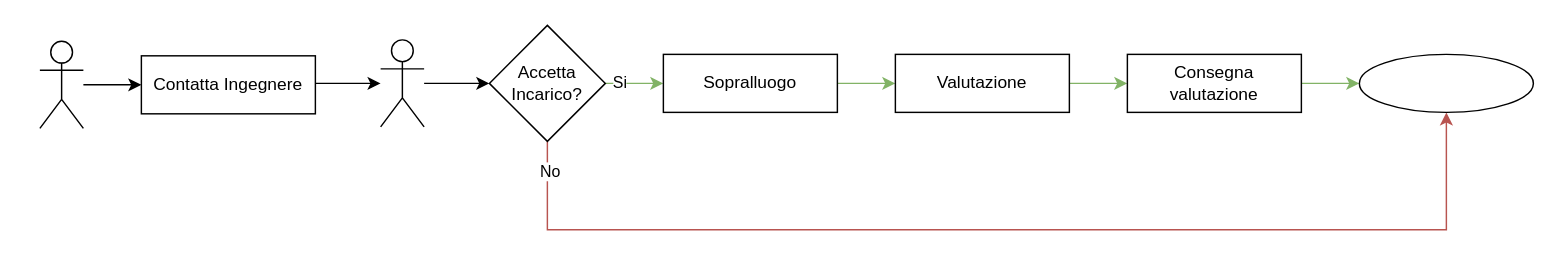
This 1559x267 diagram has some shape labels left out. Here are the shapes that lost their labels. From the top down, the box of each, then its label:
(38, 40, 83, 128): Tribunale
(379, 38, 424, 127): Ingegnere
(1358, 53, 1533, 112): Fine Progetto
